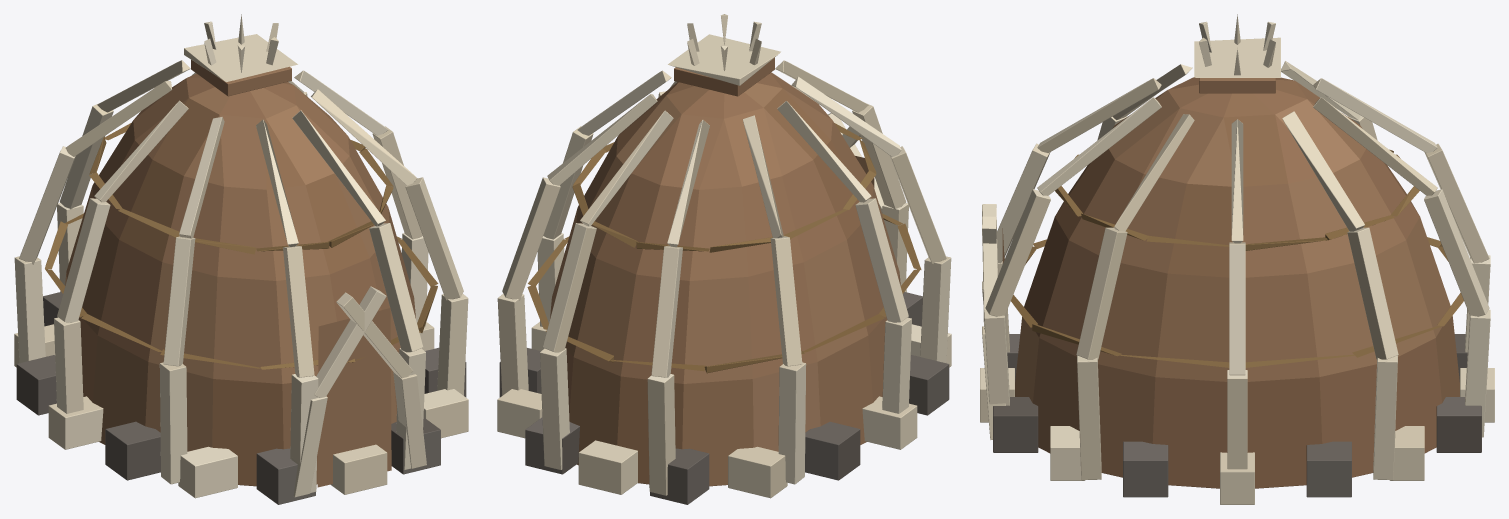
Rendered from House_Paleo_a.fbx.
3 views of the same model, side by side, from view 1: azimuth 30°, elevation 25°; view 2: azimuth 150°, elevation 25°; view 3: azimuth 270°, elevation 25° (orthographic). The views are drawn at different scales.
Parts seen in each view (by area): view 1: House_Paleo_a; view 2: House_Paleo_a; view 3: House_Paleo_a.
Boxes of the visible parts, x1,y1,x2,y2 form: House_Paleo_a: [14, 14, 468, 504]; House_Paleo_a: [497, 14, 951, 504]; House_Paleo_a: [980, 14, 1494, 504].
Size of what is drawn, in the model's own units: 4.3 by 4.12 by 5.02.
